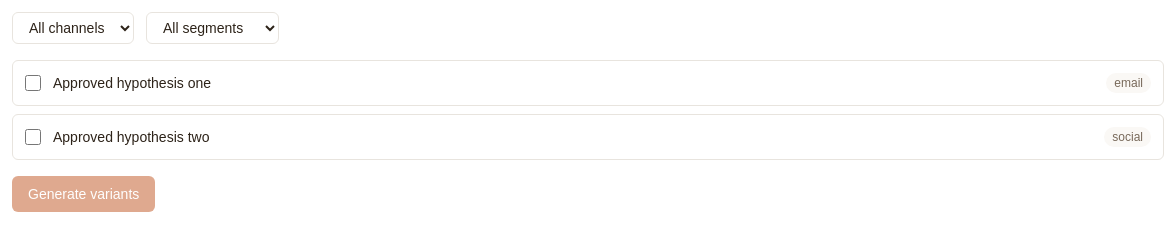
Scenario: FramePicker › filters frames by channel
Select "email" in the 1st dropdown at coordinates (73, 28), box [12, 12, 134, 44]
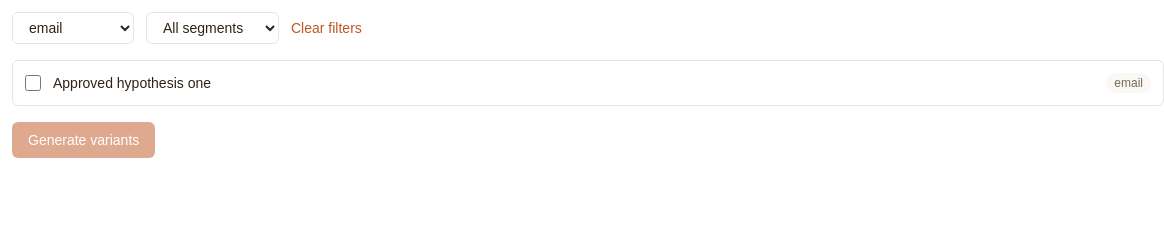
Expected: the text "Approved hypothesis one" is shown, [53, 73, 211, 93]
Expected: the text "Approved hypothesis two" is gone
